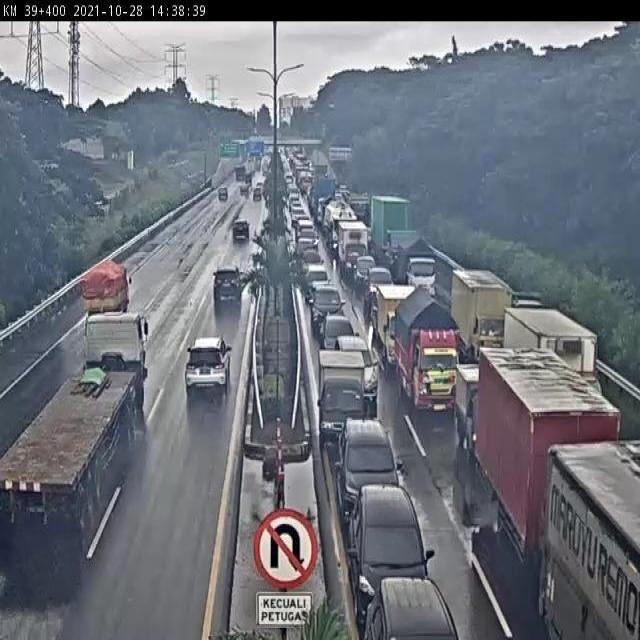ARABA: (355, 488, 432, 585), (337, 414, 410, 509), (175, 317, 241, 408), (373, 580, 442, 640), (339, 328, 376, 401), (204, 278, 242, 334), (324, 316, 358, 353), (314, 285, 343, 324), (370, 266, 396, 302)
KAMYONET: (499, 298, 588, 426), (383, 285, 468, 384), (397, 285, 457, 415), (449, 264, 509, 359), (319, 348, 363, 449), (398, 236, 441, 303), (73, 271, 119, 332), (229, 224, 249, 251)
TIR: (9, 309, 139, 599), (470, 352, 619, 596), (554, 448, 636, 632)
